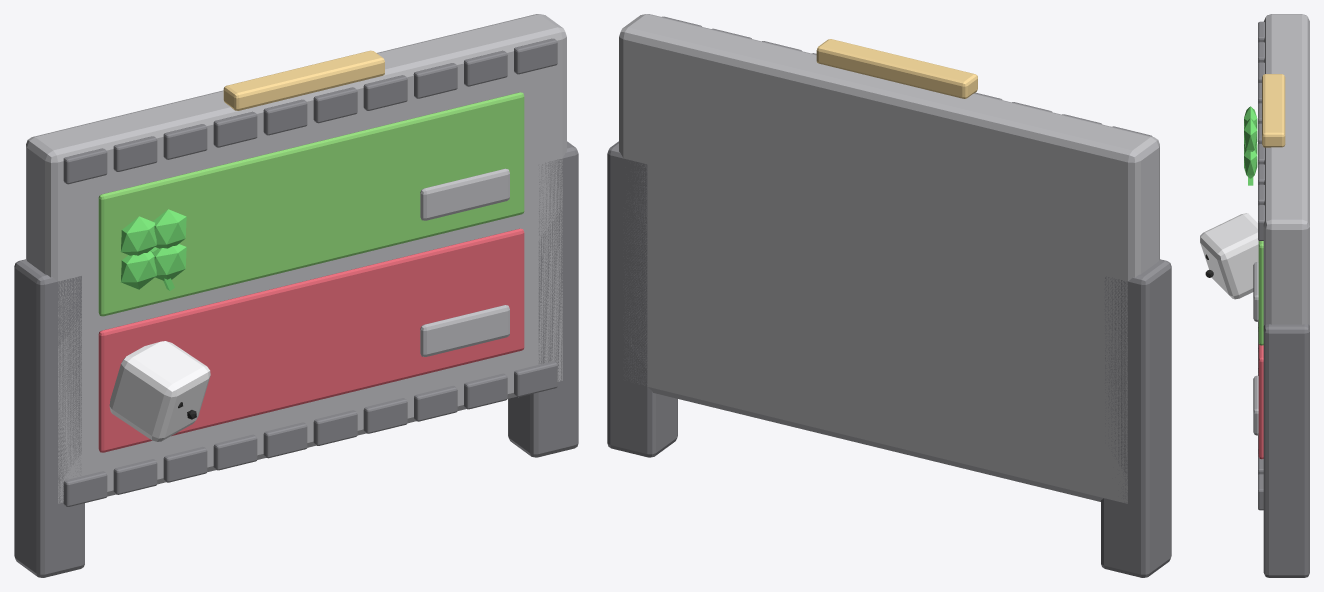
Rendered from puesto_mejoras.glb.
3 renders of one model, left to right at view 1: azimuth 30°, elevation 25°; view 2: azimuth 150°, elevation 25°; view 3: azimuth 270°, elevation 25°, orthographic. The views are drawn at different scales.
Parts seen in each view (by area): view 1: Marco, Panel_Suerte, Panel_Giros, Iconos; view 2: Marco; view 3: Marco, Iconos, Panel_Giros, Panel_Suerte.
Boxes of the visible parts, box(x1,y1,x2,y2) form: Marco: box(14, 14, 578, 577); Panel_Suerte: box(98, 92, 524, 316); Panel_Giros: box(98, 228, 524, 452); Iconos: box(109, 168, 509, 441); Marco: box(607, 14, 1171, 577); Marco: box(1258, 14, 1309, 577); Iconos: box(1200, 106, 1258, 435); Panel_Giros: box(1258, 343, 1263, 459); Panel_Suerte: box(1258, 241, 1263, 345).
Bounding box in the file's own units: 7.9 × 6.12 × 1.67.
Materials: 1 (1 with a texture image).
